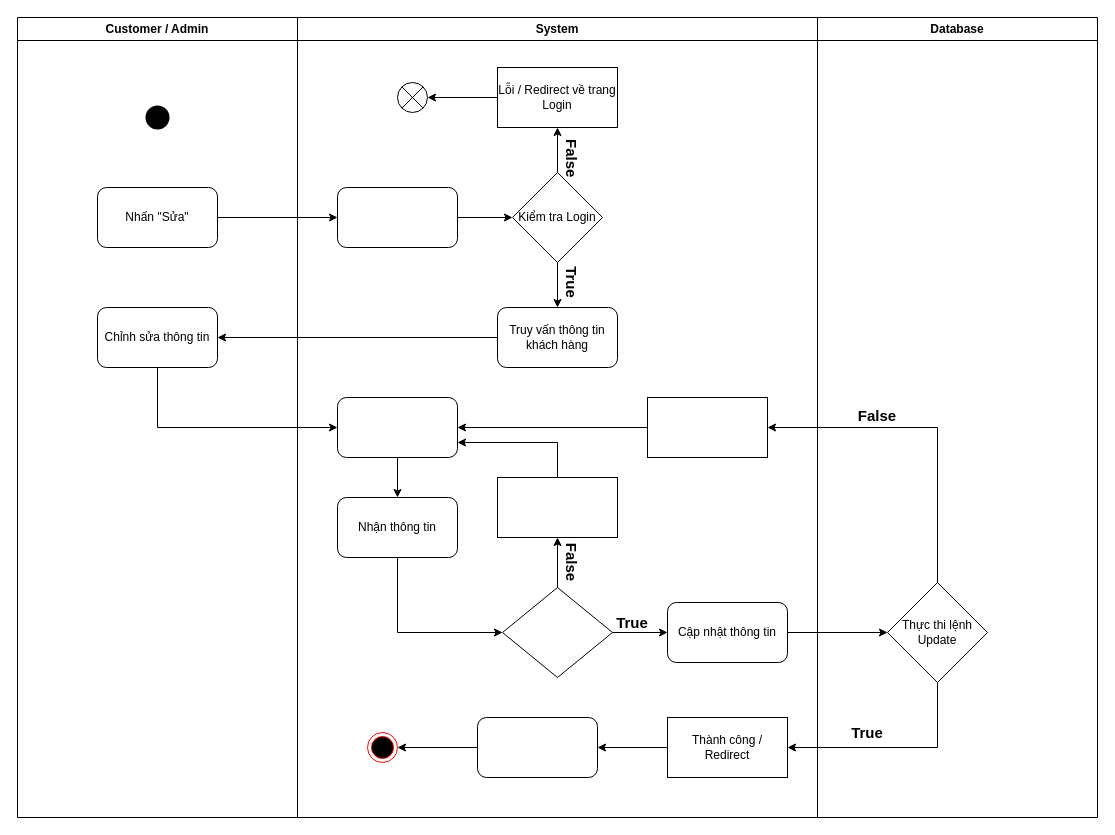
The diagram is 1115 pixels wide and 835 high, and some of its shapes have lost their labels. The shapes that lost their labels are listed below. From the top down, each one's centre as x and y in pixels, then its label:
(x=397, y=217): Kiểm tra session Login
(x=397, y=427): Hiển thị form chỉnh sửa
(x=707, y=427): Lỗi DB
(x=557, y=507): Không hợp lệ
(x=557, y=632): Validate dữ liệu
(x=537, y=747): Quay lại trang chi tiết Customer
